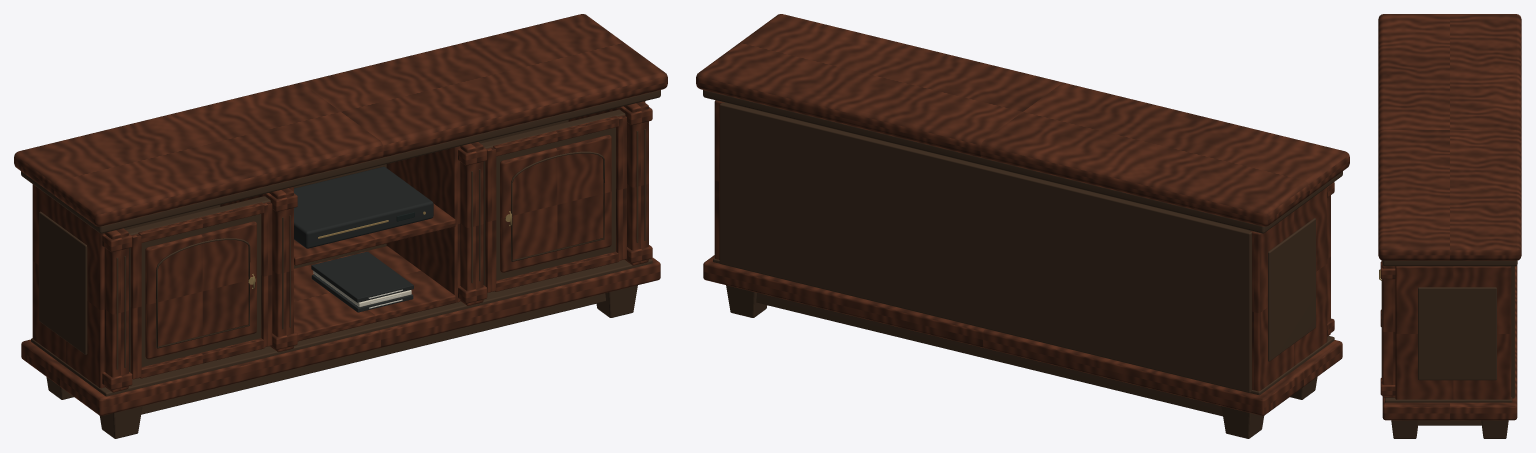
Rendered from console.glb.
The picture shows the model from 3 angles, left to right: view 1: azimuth 30°, elevation 25°; view 2: azimuth 150°, elevation 25°; view 3: azimuth 270°, elevation 25°; orthographic projection. The views are drawn at different scales.
Visible parts, largest first — view 1: Furniture_Console_Top.001, Furniture_Console_LowerPlinth.001, Furniture_Console_RightRaisedPanel.001, Furniture_Console_LeftRaisedPanel.001, Furniture_Console_DVDDeck.001, Furniture_Console_Side_-0.001, Furniture_Console_BayWall_0.001, Furniture_Console_OpenShelf_0.001, Furniture_Console_SideInset_-0.001, Furniture_Console_PlinthLip.001, Furniture_Console_TopMoulding.001, Furniture_Console_RecessedToe.001 (+22 smaller); view 2: Furniture_Console_Back.001, Furniture_Console_Top.001, Furniture_Console_LowerPlinth.001, Furniture_Console_Side_-0.001, Furniture_Console_SideInset_-0.001, Furniture_Console_RecessedToe.001, Furniture_Console_TopMoulding.001, Furniture_Console_Foot_-0.842_0.001, Furniture_Console_Side_0.001, Furniture_Console_Foot_0.842_0.001; view 3: Furniture_Console_Top.001, Furniture_Console_Side_0.001, Furniture_Console_SideInset_0.001, Furniture_Console_LowerPlinth.001, Furniture_Console_Pilaster_03.001, Furniture_Console_TopMoulding.001, Furniture_Console_PlinthLip.001, Furniture_Console_Back.001, Furniture_Console_Foot_0.842_-0.001, Furniture_Console_Foot_0.842_0.001, Furniture_Console_RecessedToe.001, Furniture_Console_PilasterCap_03_0.002 (+2 smaller).
Part boxes in pixels (x1,y1,x2,y2): Furniture_Console_Top.001: (14,14,667,226); Furniture_Console_LowerPlinth.001: (21,257,660,415); Furniture_Console_RightRaisedPanel.001: (500,135,611,272); Furniture_Console_LeftRaisedPanel.001: (145,221,256,359); Furniture_Console_DVDDeck.001: (294,166,433,248); Furniture_Console_Side_-0.001: (32,184,104,388); Furniture_Console_BayWall_0.001: (386,146,460,302); Furniture_Console_OpenShelf_0.001: (294,246,455,341); Furniture_Console_SideInset_-0.001: (39,211,87,354); Furniture_Console_PlinthLip.001: (31,259,652,396); Furniture_Console_TopMoulding.001: (21,90,660,233); Furniture_Console_RecessedToe.001: (141,293,605,414); Furniture_Console_Back.001: (719,102,1251,392); Furniture_Console_Top.001: (696,14,1349,226); Furniture_Console_LowerPlinth.001: (703,255,1342,415); Furniture_Console_Side_-0.001: (1250,187,1327,391); Furniture_Console_SideInset_-0.001: (1268,218,1315,361); Furniture_Console_RecessedToe.001: (756,293,1222,416); Furniture_Console_TopMoulding.001: (703,90,1342,233); Furniture_Console_Foot_-0.842_0.001: (1221,406,1263,438); Furniture_Console_Side_0.001: (714,100,724,259); Furniture_Console_Foot_0.842_0.001: (726,285,767,317); Furniture_Console_Top.001: (1378,14,1521,260); Furniture_Console_Side_0.001: (1395,266,1511,399); Furniture_Console_SideInset_0.001: (1418,287,1496,380); Furniture_Console_LowerPlinth.001: (1382,265,1517,420); Furniture_Console_Pilaster_03.001: (1382,264,1395,397); Furniture_Console_TopMoulding.001: (1382,260,1517,266); Furniture_Console_PlinthLip.001: (1385,397,1512,402); Furniture_Console_Back.001: (1511,266,1514,398); Furniture_Console_Foot_0.842_-0.001: (1391,420,1418,438); Furniture_Console_Foot_0.842_0.001: (1481,420,1508,438); Furniture_Console_RecessedToe.001: (1418,420,1481,425); Furniture_Console_PilasterCap_03_0.002: (1380,261,1395,279).
Bounding box in the file's own units: 1.95 × 0.78 × 0.5.
Materials: 7 (1 with a texture image).
